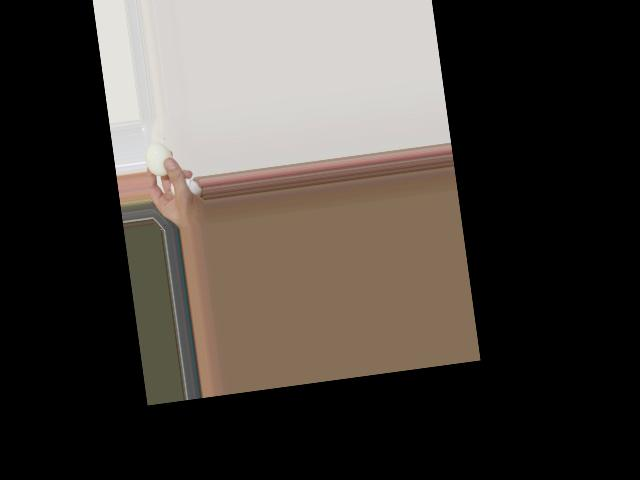egg: (143, 141, 175, 177)
